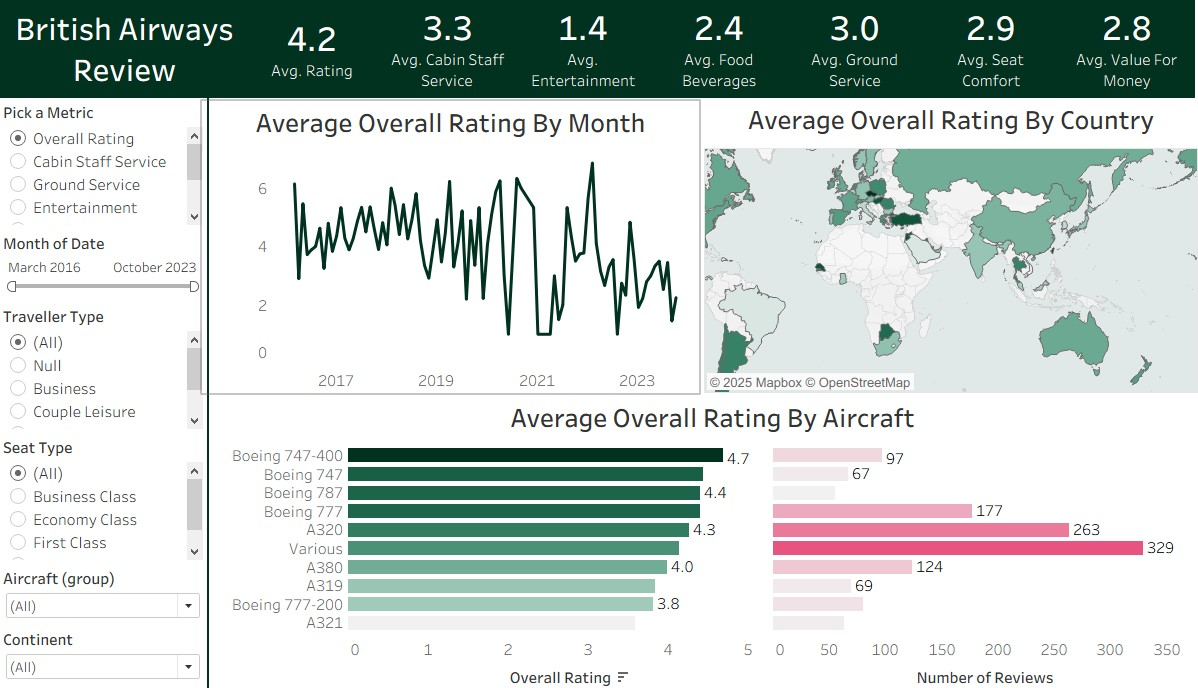

The page's visual inventory and layout, read from the dashboard file:
{"tool":"tableau","page":{"name":"Dashboard 1","canvas":[1200,700],"ordinal":0},"visuals":[{"type":"text","box":[0,0,251,100]},{"type":"worksheet","title":"Summary","mark":"Automatic","box":[245,0,951,100]},{"type":"blank","box":[208,93,2,608]},{"type":"parameter","param":"[Parameters].[Parameter 1]","box":[0,100,208,131]},{"type":"worksheet","title":"Map","mark":"Automatic","box":[705,100,494,295]},{"type":"worksheet","title":"Month","mark":"Automatic","rows":["Calculation_708191094387916800"],"cols":["date"],"box":[203,103,497,292]},{"type":"filter","title":"Map","param":"[federated.1eod2xe110yhzz1h6vcuc1ixpok5].[tmn:date:qk]","box":[0,231,208,73]},{"type":"filter","title":"Map","param":"[federated.1eod2xe110yhzz1h6vcuc1ixpok5].[none:traveller_type:nk]","box":[0,304,208,131]},{"type":"worksheet","title":"Aircraft","mark":"Automatic","cols":["Calculation_708191094387916800","ba_reviews.csv_2845AE7A7FE14DD3A6DDA9BFAE17D45A"],"box":[229,398,969,299]},{"type":"filter","title":"Map","param":"[federated.1eod2xe110yhzz1h6vcuc1ixpok5].[none:seat_type:nk]","box":[0,435,208,131]},{"type":"filter","title":"Map","param":"[federated.1eod2xe110yhzz1h6vcuc1ixpok5].[Aircraft (group)]","box":[0,566,208,61]},{"type":"filter","title":"Map","param":"[federated.1eod2xe110yhzz1h6vcuc1ixpok5].[none:Continent:nk]","box":[0,627,208,61]}]}

Visuals, with their boxes in screenshot pixels (x1, y1, x2, y2), scaled from the page's 1200x700 canvas onto the 1198x688 screenshot:
text: bbox=[0, 0, 251, 98]
"Summary" worksheet: bbox=[245, 0, 1194, 98]
blank: bbox=[208, 91, 210, 687]
parameter: bbox=[0, 98, 208, 227]
"Map" worksheet: bbox=[704, 98, 1197, 388]
"Month" worksheet: bbox=[203, 101, 699, 388]
"Map" filter: bbox=[0, 227, 208, 299]
"Map" filter: bbox=[0, 299, 208, 428]
"Aircraft" worksheet: bbox=[229, 391, 1196, 685]
"Map" filter: bbox=[0, 428, 208, 556]
"Map" filter: bbox=[0, 556, 208, 616]
"Map" filter: bbox=[0, 616, 208, 676]
